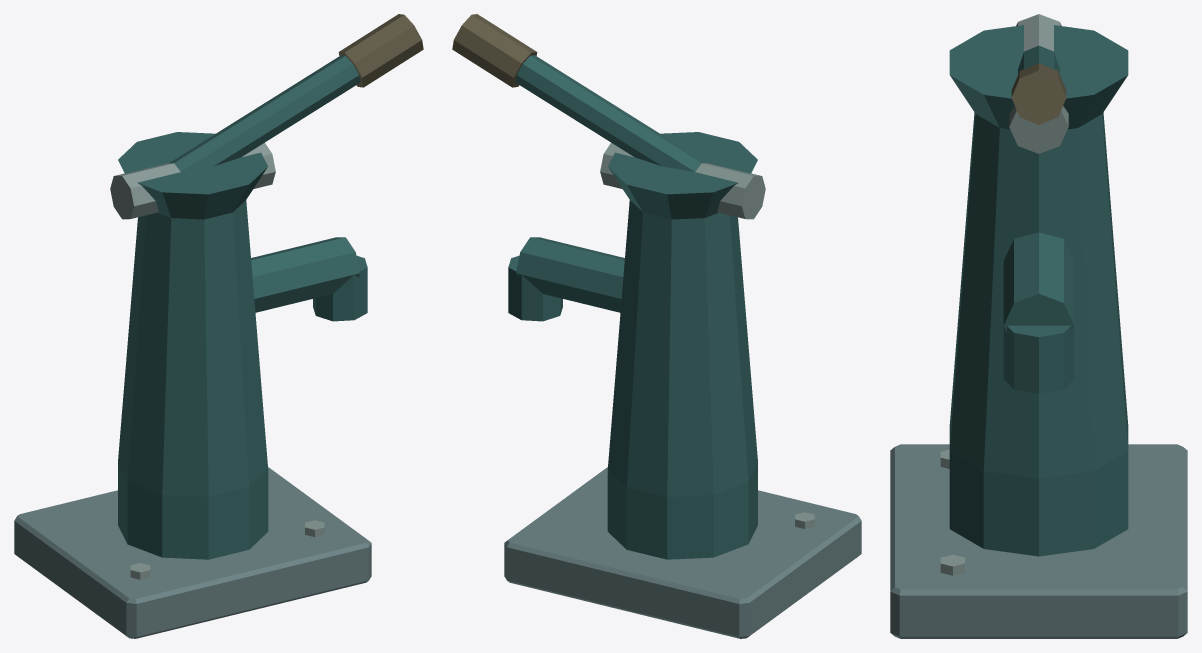
File: hand-pump.glb
3 renders of one model, left to right at view 1: azimuth 30°, elevation 25°; view 2: azimuth 150°, elevation 25°; view 3: azimuth 270°, elevation 25°, orthographic. The views are drawn at different scales.
Visible parts, largest first — view 1: hand-pump__body; view 2: hand-pump__body; view 3: hand-pump__body.
Boxes of the visible parts, bbox=[...] form: hand-pump__body: bbox=[14, 14, 423, 638]; hand-pump__body: bbox=[452, 14, 861, 638]; hand-pump__body: bbox=[890, 14, 1187, 638].
Bounding box in the file's own units: 0.6372 × 0.8798 × 0.38.
